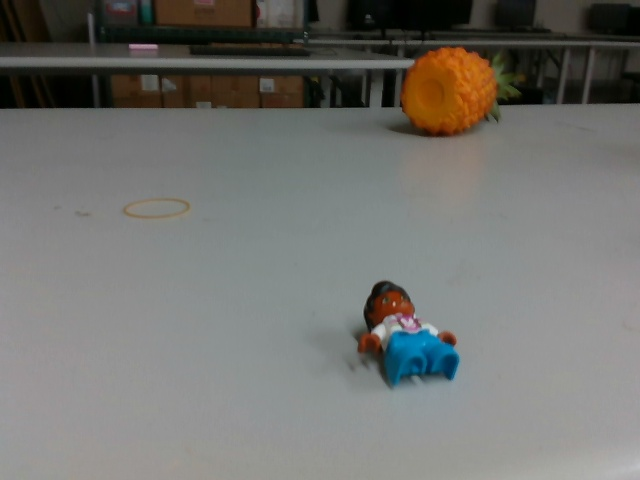people: (353, 276, 461, 387)
